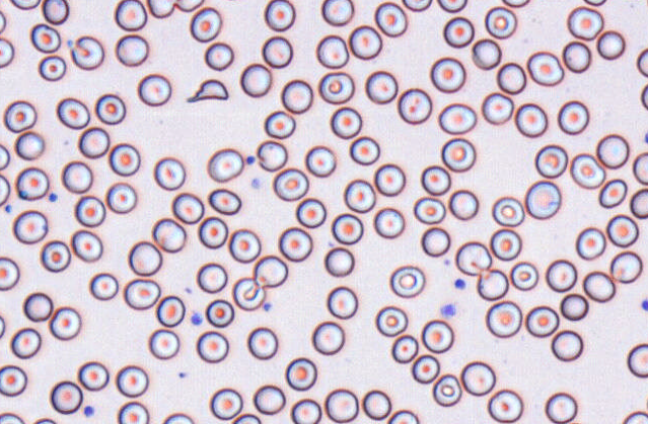PLT: (439, 303, 458, 318), (452, 275, 468, 292), (83, 404, 96, 418), (191, 311, 203, 324), (245, 154, 258, 166), (639, 297, 648, 313), (46, 194, 58, 204)
RBC: (524, 180, 561, 219), (485, 300, 522, 338), (526, 50, 564, 86), (429, 56, 465, 93), (455, 240, 492, 275), (566, 5, 603, 40), (397, 87, 432, 124), (570, 152, 605, 189), (206, 147, 243, 182), (127, 240, 162, 276), (460, 360, 495, 396), (12, 209, 48, 244), (272, 167, 309, 201), (151, 217, 186, 252), (69, 35, 104, 70), (440, 137, 475, 172), (252, 254, 288, 288), (487, 388, 523, 422), (348, 24, 382, 60), (389, 264, 425, 298), (438, 102, 476, 134), (311, 320, 345, 355), (324, 388, 359, 422), (278, 226, 312, 261), (534, 143, 568, 178), (514, 102, 548, 137), (189, 6, 222, 42), (374, 1, 407, 37), (318, 71, 354, 104), (596, 133, 629, 169), (123, 278, 160, 310), (49, 380, 83, 414), (15, 166, 49, 200), (315, 34, 349, 68), (364, 70, 398, 104), (228, 228, 261, 263), (343, 178, 376, 213), (280, 78, 313, 113), (284, 357, 317, 391), (209, 387, 243, 420), (48, 306, 81, 340), (115, 33, 149, 66), (137, 73, 171, 106), (557, 100, 589, 135), (232, 277, 265, 310), (196, 330, 229, 363), (115, 364, 148, 397), (609, 250, 642, 283), (606, 214, 639, 247), (3, 99, 36, 132), (484, 6, 517, 39), (525, 305, 559, 337), (326, 285, 358, 319), (421, 319, 453, 353), (373, 162, 405, 196), (545, 258, 577, 292), (153, 156, 185, 190), (108, 142, 140, 176), (56, 97, 90, 129), (240, 62, 271, 97), (544, 391, 577, 423), (550, 329, 583, 361), (246, 326, 278, 359), (582, 270, 615, 302), (61, 160, 93, 193), (261, 35, 293, 68), (171, 192, 204, 224), (330, 106, 362, 139), (71, 229, 103, 262), (481, 91, 513, 124), (575, 226, 606, 260), (476, 268, 508, 300), (373, 206, 405, 238), (331, 212, 363, 244), (489, 228, 521, 260), (304, 145, 336, 177), (442, 16, 474, 48), (114, 0, 147, 31), (252, 384, 285, 415), (197, 216, 228, 249), (106, 181, 137, 214), (491, 195, 524, 226), (256, 139, 287, 171), (375, 305, 407, 336), (78, 126, 109, 158), (74, 195, 105, 227), (40, 240, 71, 272), (94, 93, 126, 124), (496, 61, 526, 94), (323, 246, 354, 277), (22, 291, 53, 322), (264, 0, 295, 31), (148, 328, 179, 359), (196, 262, 227, 293), (10, 327, 41, 358), (295, 197, 326, 228), (420, 164, 451, 195), (155, 295, 185, 327), (77, 361, 109, 391), (471, 37, 501, 69), (432, 373, 461, 406), (562, 40, 591, 73), (207, 187, 241, 215), (361, 389, 391, 420), (30, 23, 61, 53), (349, 135, 380, 165), (448, 189, 478, 220), (263, 110, 295, 139), (410, 353, 440, 383), (420, 226, 450, 256), (14, 130, 44, 160), (596, 29, 625, 60), (413, 196, 445, 224), (598, 178, 627, 208), (204, 41, 233, 71), (0, 364, 27, 396), (321, 0, 354, 26), (205, 298, 234, 327), (509, 261, 538, 290), (559, 293, 588, 321), (89, 272, 118, 300), (391, 333, 418, 363), (290, 398, 321, 423), (38, 54, 66, 81), (626, 343, 647, 378), (117, 401, 149, 423), (0, 256, 20, 290), (41, 0, 69, 24), (629, 187, 647, 219), (632, 151, 647, 185), (147, 0, 175, 18), (0, 36, 14, 68), (387, 409, 419, 423), (174, 0, 204, 12), (437, 0, 467, 12), (162, 412, 194, 423), (636, 47, 647, 77), (231, 412, 261, 423), (402, 0, 432, 11), (622, 410, 647, 423), (0, 174, 10, 206), (9, 0, 41, 10), (0, 412, 25, 423), (0, 143, 10, 170), (501, 0, 530, 7), (640, 82, 647, 109), (0, 9, 6, 33), (583, 0, 607, 6), (33, 417, 56, 423), (0, 314, 5, 338), (643, 130, 648, 144), (219, 0, 248, 2)
Schistocyte: (187, 79, 229, 104)
